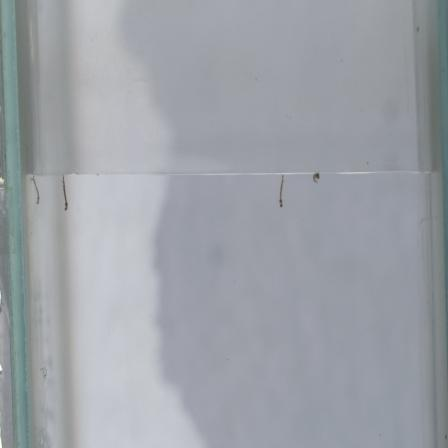Jentik-Nyamuk: (27, 175, 44, 206), (59, 174, 71, 214), (276, 172, 287, 210), (310, 170, 325, 185)
